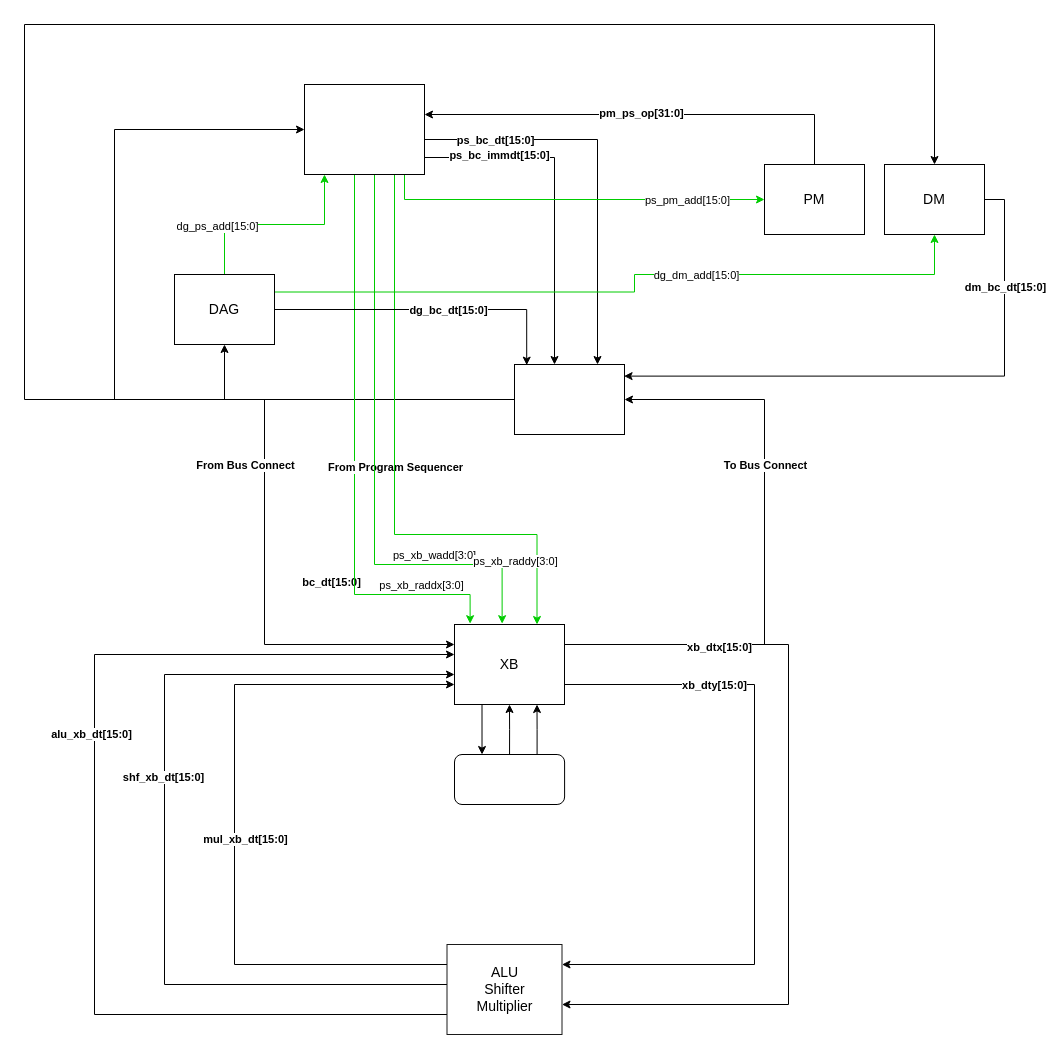
Some shapes in this 1063 by 1052 pixel diagram are drawn without their labels. The centre of each missing label's shape, as x and y in pixels:
"BC" belongs at point 569,399.
"PS" belongs at point 364,129.
"RF" belongs at point 509,779.
